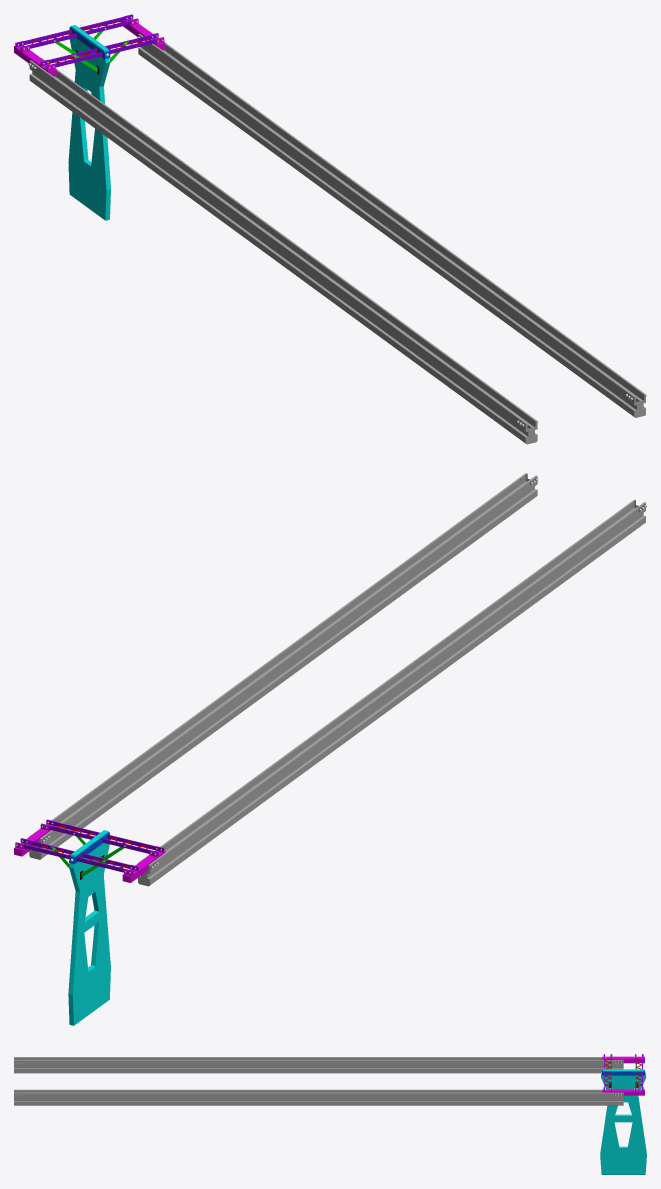
File: CWR_MonoRail.fbx
3 views of the same model, one above another, from view 1: azimuth 30°, elevation 25°; view 2: azimuth 150°, elevation 25°; view 3: azimuth 270°, elevation 25° (orthographic). The views are drawn at different scales.
Visible parts, largest first — view 1: Monorail_Rail46, Monorail_Rail47, Monorail_Support69; view 2: Monorail_Rail46, Monorail_Rail47, Monorail_Support69; view 3: Monorail_Rail47, Monorail_Rail46, Monorail_Support69, Monorail_Support76, Monorail_Support31, Monorail_Support39.
Boxes of the visible parts, box(x1,y1,x2,y2) form: Monorail_Rail46: box(29, 58, 537, 444); Monorail_Rail47: box(138, 31, 645, 417); Monorail_Support69: box(68, 25, 110, 220); Monorail_Rail46: box(138, 499, 645, 886); Monorail_Rail47: box(29, 473, 537, 859); Monorail_Support69: box(68, 830, 110, 1025); Monorail_Rail47: box(14, 1089, 623, 1105); Monorail_Rail46: box(14, 1057, 623, 1073); Monorail_Support69: box(600, 1069, 646, 1174); Monorail_Support76: box(602, 1056, 644, 1063); Monorail_Support31: box(602, 1089, 644, 1095); Monorail_Support39: box(601, 1070, 645, 1075).
Bounding box in the file's own units: 390 × 509 × 2802.
